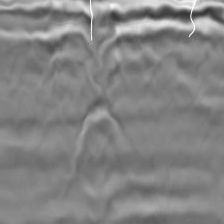Utility: (70, 95, 128, 171)
